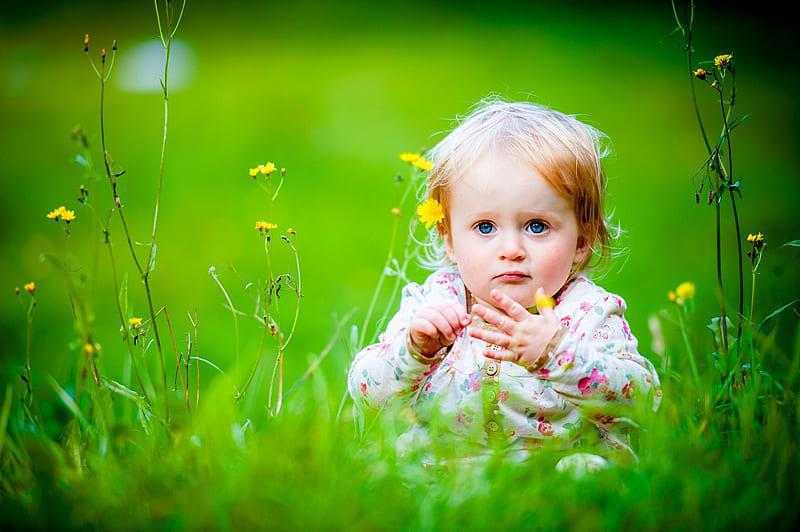child: (331, 75, 680, 486)
